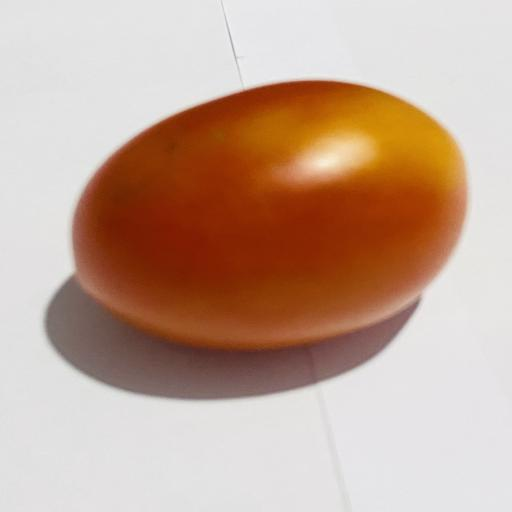ripe: (73, 81, 466, 349)
